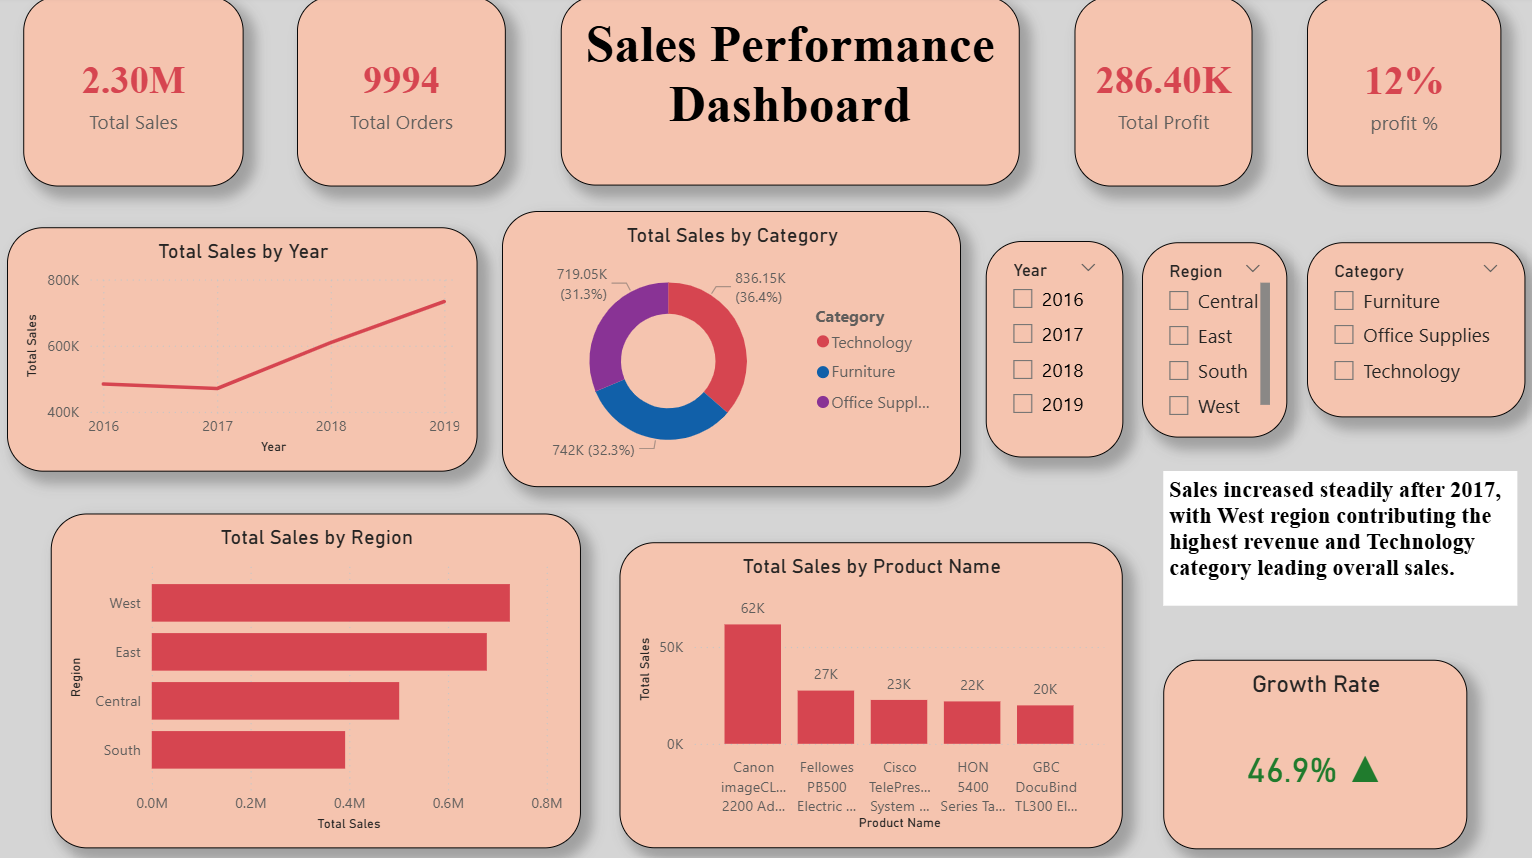

This screenshot's page, from the dashboard's own definition file:
{"tool":"powerbi","page":{"name":"sales dashboard project","canvas":[1280,720],"ordinal":0},"visuals":[{"type":"card","fields":{"Values":["Orders.total orders"]},"box":[249.8,0,173.5,158.7],"z":0},{"type":"card","fields":{"Values":["Orders.total sales"]},"box":[21.5,0,182.9,158.7],"z":1000},{"type":"card","fields":{"Values":["Orders.total profit"]},"box":[896,0,147.9,158.7],"z":2000},{"type":"card","fields":{"Values":["Orders.profit %"]},"box":[1089.3,0,161.4,158.7],"z":3000},{"type":"lineChart","fields":{"Category":["Orders.Order Date.Variation.Date Hierarchy.Year"],"Y":["Orders.total sales"]},"box":[8.1,192.6,391.3,203.1],"z":4000},{"type":"barChart","fields":{"Category":["Orders.Region"],"Y":["Orders.total sales"]},"box":[44.4,430.3,441.1,278.4],"z":5000},{"type":"clusteredColumnChart","fields":{"Category":["Orders.Product Name"],"Y":["Orders.total sales"]},"box":[517.8,454.6,418.2,254.2],"z":6000},{"type":"donutChart","fields":{"Y":["Orders.total sales"],"Category":["Orders.Category"]},"box":[419.9,179.1,381.9,230],"z":7000},{"type":"slicer","fields":{"Values":["Orders.Region"]},"box":[952.1,204.4,121,162.7],"z":8000},{"type":"slicer","fields":{"Values":["Orders.Order Date.Variation.Date Hierarchy.Year"]},"box":[821.7,203.8,114.3,180.2],"z":9000},{"type":"slicer","fields":{"Values":["Orders.Category"]},"box":[1089.3,204.4,181.6,145.2],"z":10000},{"type":"card","title":"Growth Rate","fields":{"Values":["Orders.KPI Display"]},"box":[969.6,551.4,252.8,157.3],"z":11000},{"type":"textbox","box":[468.7,0,381.9,157.3],"z":12000},{"type":"textbox","box":[969.6,395.4,294.5,111.6],"z":13000}]}

Visuals, with their boxes in screenshot pixels (x1, y1, x2, y2), scaled from the page's 1280x720 canvas onto the 1532x858 screenshot:
card - Orders.total orders: bbox(299, 0, 507, 189)
card - Orders.total sales: bbox(26, 0, 245, 189)
card - Orders.total profit: bbox(1072, 0, 1249, 189)
card - Orders.profit %: bbox(1304, 0, 1497, 189)
lineChart - Orders.Order Date.Variation.Date Hierarchy.Year x Orders.total sales: bbox(10, 230, 478, 472)
barChart - Orders.Region x Orders.total sales: bbox(53, 513, 581, 845)
clusteredColumnChart - Orders.Product Name x Orders.total sales: bbox(620, 542, 1120, 845)
donutChart - Orders.total sales x Orders.Category: bbox(503, 213, 960, 488)
slicer - Orders.Region: bbox(1140, 244, 1284, 437)
slicer - Orders.Order Date.Variation.Date Hierarchy.Year: bbox(983, 243, 1120, 458)
slicer - Orders.Category: bbox(1304, 244, 1521, 417)
"Growth Rate" card: bbox(1160, 657, 1463, 845)
textbox: bbox(561, 0, 1018, 187)
textbox: bbox(1160, 471, 1513, 604)
